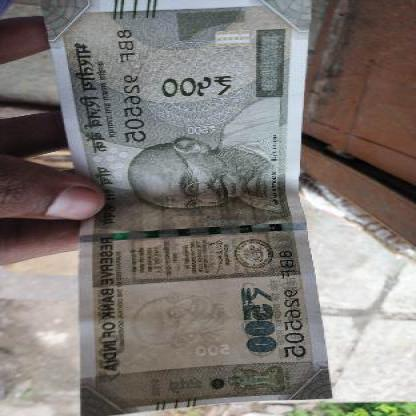New500Front: (72, 3, 312, 415)
